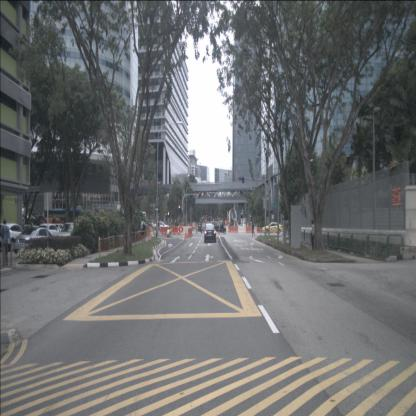barrier: (160, 225, 170, 234), (169, 226, 178, 235), (228, 226, 239, 233), (183, 226, 192, 234), (238, 226, 246, 233), (245, 226, 252, 233), (188, 228, 193, 237), (252, 226, 257, 233), (257, 226, 261, 234), (225, 226, 228, 232)
